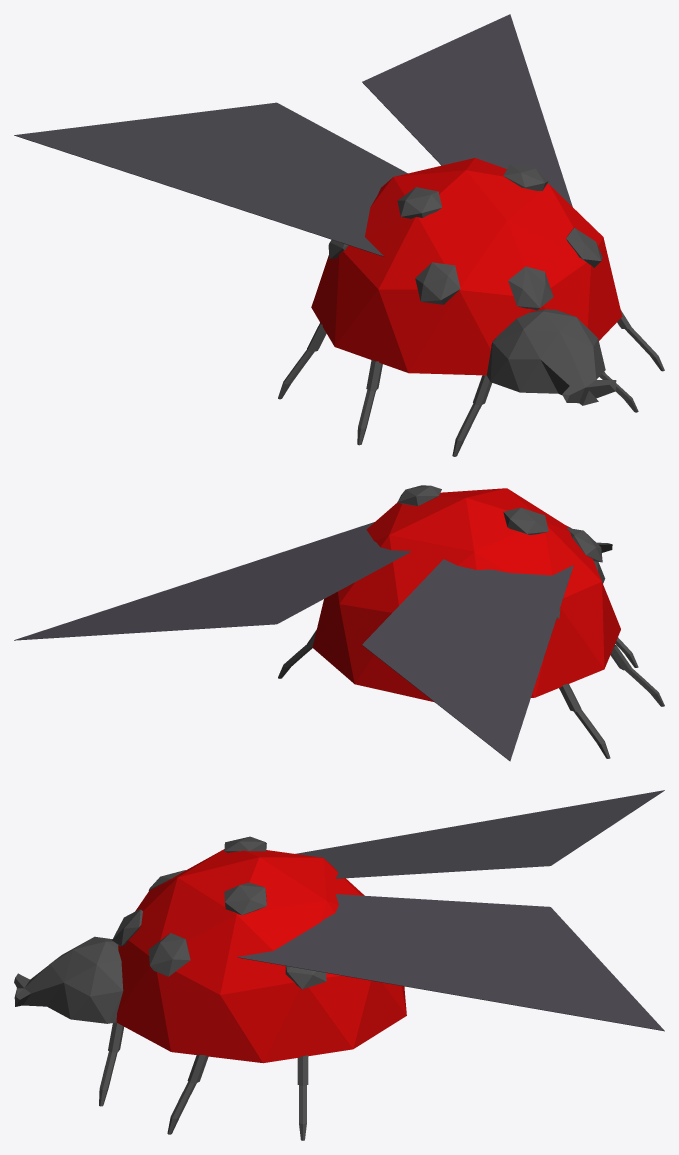
The model's file is LadyBug.fbx.
The picture shows the model from 3 angles, top to bottom: view 1: azimuth 30°, elevation 25°; view 2: azimuth 150°, elevation 25°; view 3: azimuth 270°, elevation 25°; orthographic projection.
Parts seen in each view (by area): view 1: ShellRight, WingRight, WingLeft, ShellLeft, Symmetry, RightLegTwo, RightLegOne, RightLegThree; view 2: WingRight, ShellRight, WingLeft, ShellLeft, RightLegThree, RightLegTwo; view 3: ShellLeft, WingLeft, WingRight, Symmetry, ShellRight, LeftLegTwo, LeftLegOne, LeftLegThree.
Part boxes in pixels (left/top/right/bottom): ShellRight: left=311, top=167, right=539, bottom=375; WingRight: left=14, top=102, right=407, bottom=256; WingLeft: left=362, top=14, right=572, bottom=206; ShellLeft: left=434, top=158, right=622, bottom=340; Symmetry: left=486, top=309, right=616, bottom=405; RightLegTwo: left=357, top=359, right=382, bottom=445; RightLegOne: left=452, top=375, right=491, bottom=456; RightLegThree: left=278, top=322, right=326, bottom=399; WingRight: left=362, top=559, right=573, bottom=761; ShellRight: left=392, top=488, right=620, bottom=702; WingLeft: left=14, top=522, right=411, bottom=640; ShellLeft: left=312, top=485, right=505, bottom=692; RightLegThree: left=559, top=683, right=610, bottom=758; RightLegTwo: left=610, top=644, right=664, bottom=706; ShellLeft: left=112, top=857, right=406, bottom=1063; WingLeft: left=237, top=894, right=664, bottom=1031; WingRight: left=295, top=790, right=664, bottom=878; Symmetry: left=14, top=936, right=123, bottom=1023; ShellRight: left=112, top=836, right=405, bottom=996; LeftLegTwo: left=167, top=1054, right=208, bottom=1134; LeftLegOne: left=99, top=1022, right=123, bottom=1106; LeftLegThree: left=297, top=1055, right=308, bottom=1140.
Bounding box in the file's own units: 1164 × 460 × 1330.
